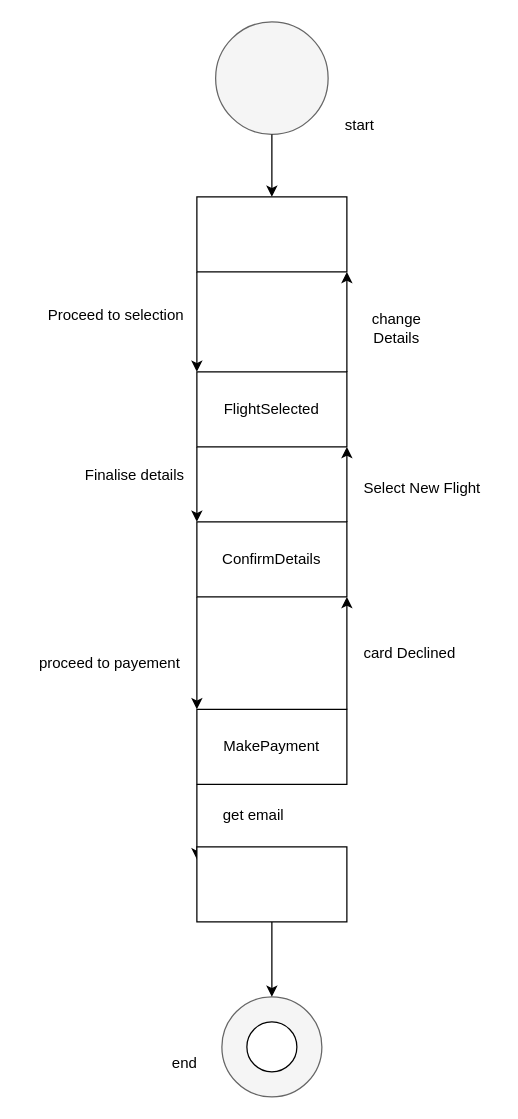
Some shapes in this 518 by 1119 pixel diagram are drawn without their labels. The box of each missing label's shape, as (x1, y1, x2, y2) in pixels:
EnterDetails: (196, 196, 347, 272)
Get Confirmation: (196, 846, 347, 922)
